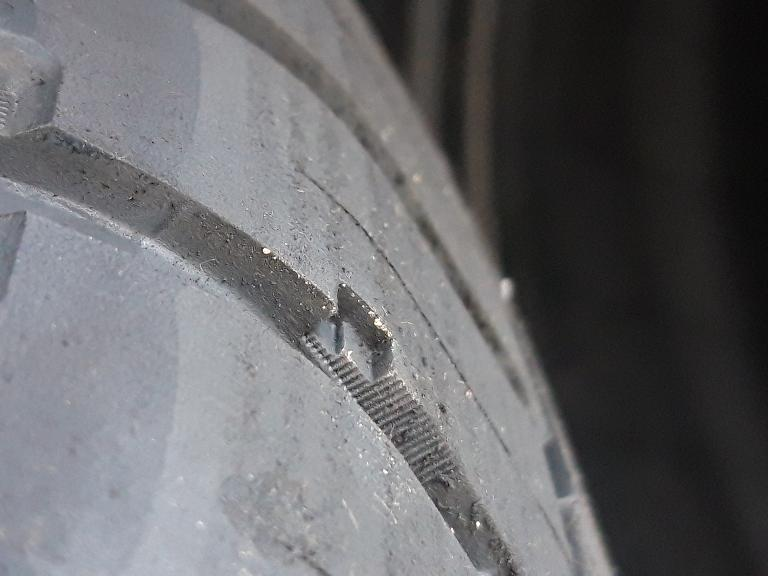temoin:50: (293, 272, 428, 442)
